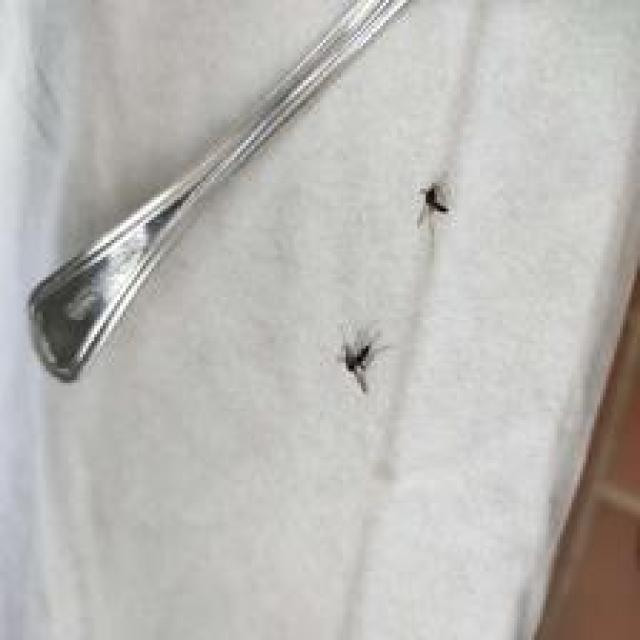Aedes albopictus: (334, 323, 389, 394)
